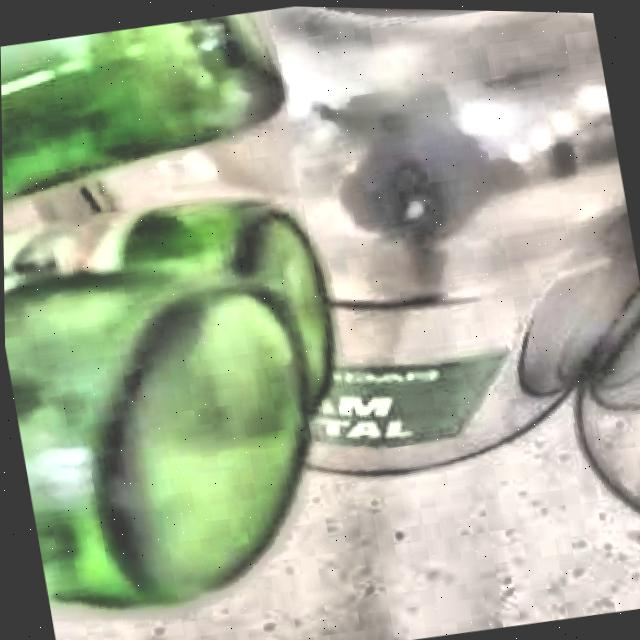glass: (3, 198, 333, 611)
